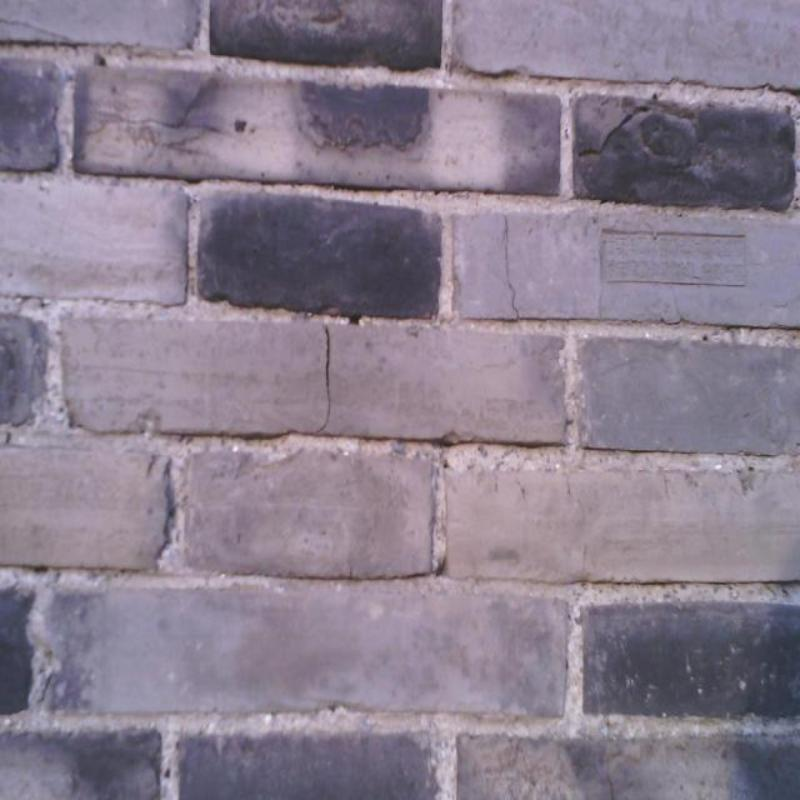pothole: (578, 95, 659, 158), (313, 329, 332, 435), (504, 215, 520, 321), (0, 19, 71, 42), (430, 560, 446, 576), (606, 772, 615, 799), (349, 315, 360, 326)
